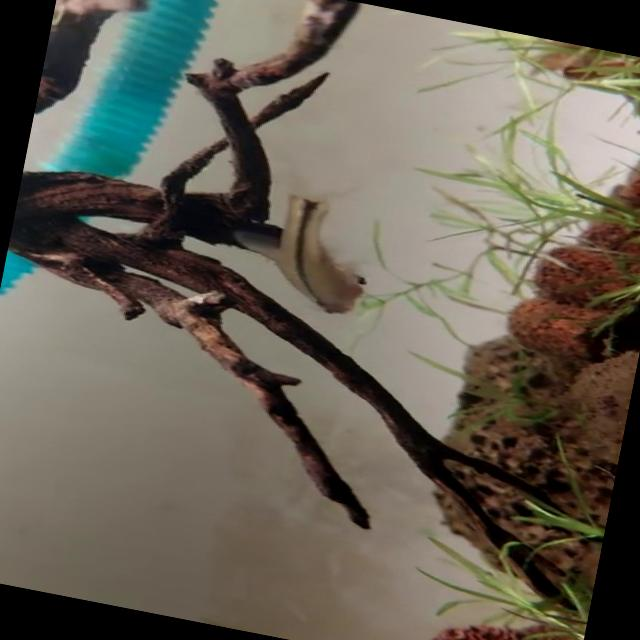Cakil Baligi: (221, 178, 391, 326)
